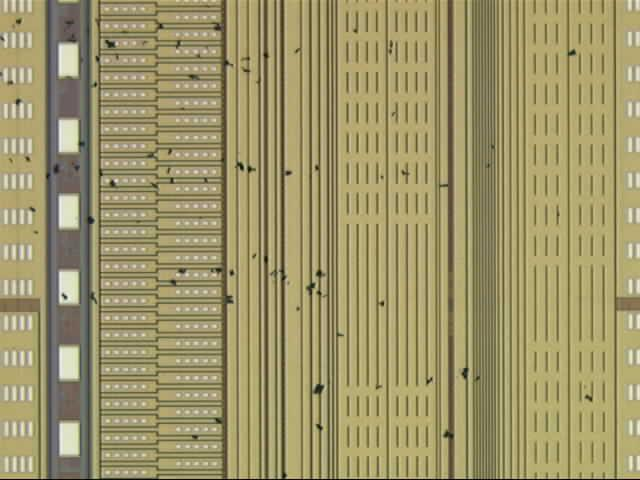PO CONTAMINATION: (1, 16, 596, 480)
